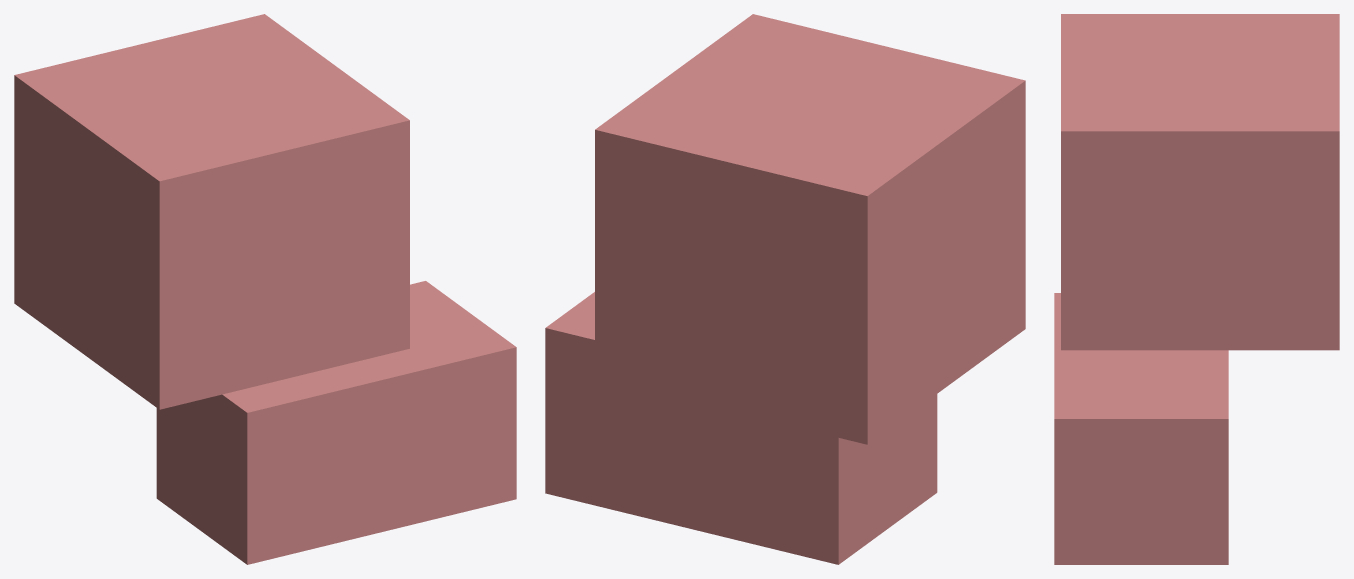
Rendered from 239515_occ.glb.
3 renders of one model, left to right at view 1: azimuth 30°, elevation 25°; view 2: azimuth 150°, elevation 25°; view 3: azimuth 270°, elevation 25°, orthographic. The views are drawn at different scales.
Visible parts, largest first — view 1: world; view 2: world; view 3: world.
Boxes of the visible parts, bbox=[...] form: world: bbox=[14, 14, 516, 564]; world: bbox=[545, 14, 1025, 564]; world: bbox=[1054, 14, 1339, 564].
Size of the model in its own units: 3.92 by 4.25 by 2.85.
